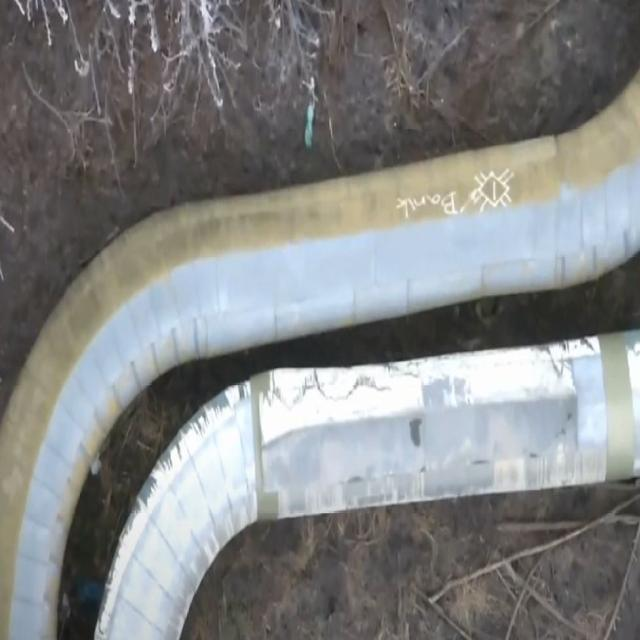gas: (0, 74, 640, 640), (95, 330, 639, 640)
